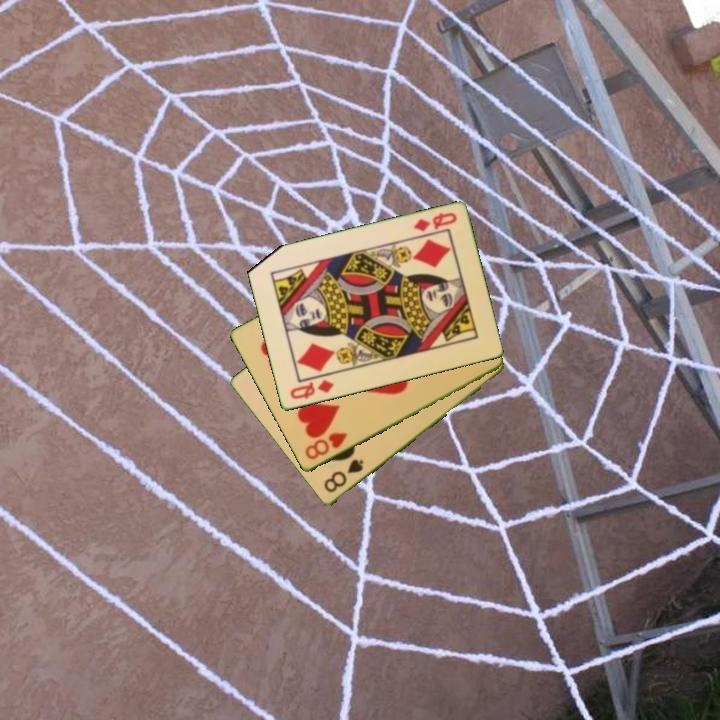8h: (301, 429, 350, 463)
8s: (320, 456, 366, 496)
Qd: (410, 209, 460, 235), (286, 377, 337, 402)
